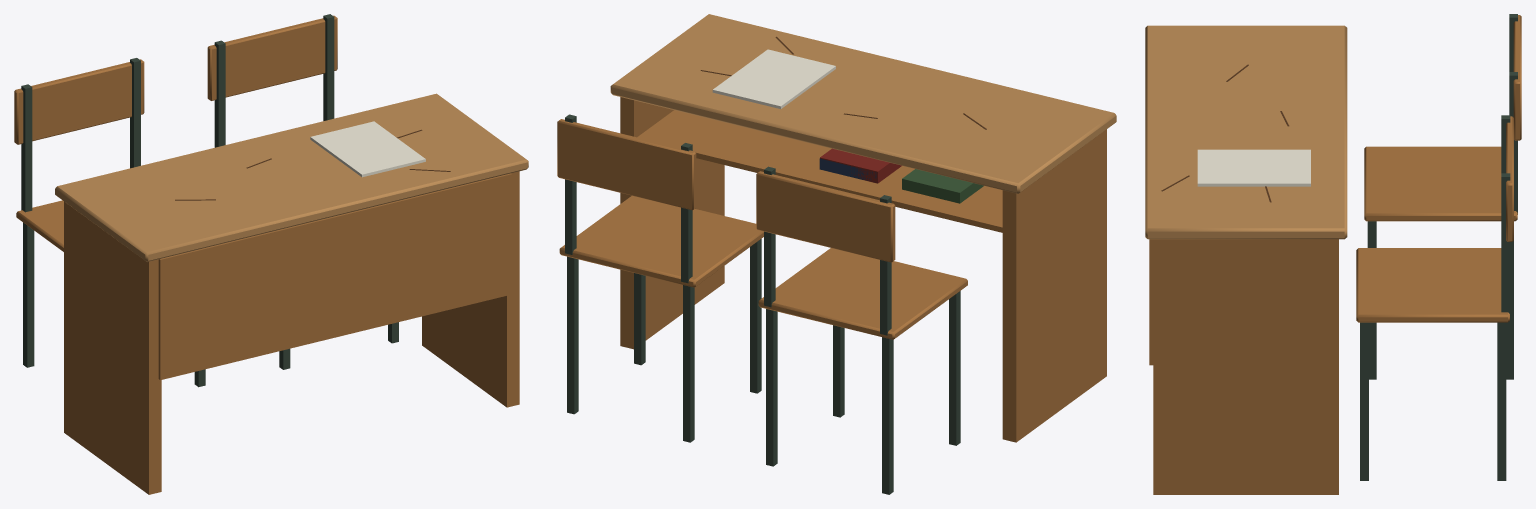
File: desk_pair.glb
3 renders of one model, left to right at view 1: azimuth 30°, elevation 25°; view 2: azimuth 150°, elevation 25°; view 3: azimuth 270°, elevation 25°, orthographic. The views are drawn at different scales.
Visible parts, largest first — view 1: DeskPair; view 2: DeskPair; view 3: DeskPair.
Part boxes in pixels (x1,y1,x2,y2): DeskPair: (14,14,528,494); DeskPair: (557,14,1116,494); DeskPair: (1145,14,1521,494).
Size of the model in its own units: 1.2 by 0.83 by 0.932.
